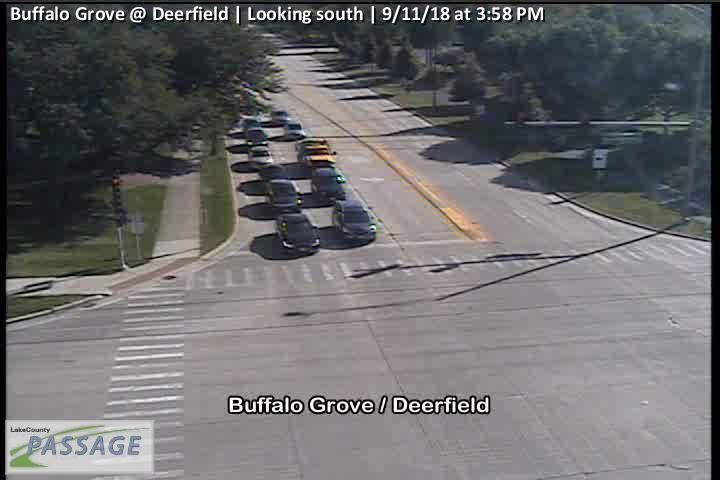Sedan: (331, 198, 377, 242), (273, 213, 321, 255), (265, 176, 303, 213), (309, 167, 349, 201), (246, 144, 274, 169), (285, 117, 304, 140)
Truck: (294, 135, 338, 168)
